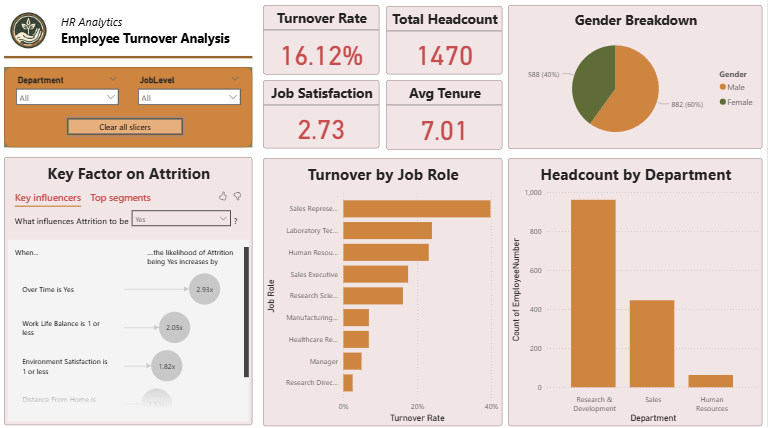

The page's visual inventory and layout, read from the dashboard file:
{"tool":"powerbi","page":{"name":"Page 1","canvas":[1280,720],"ordinal":0},"visuals":[{"type":"card","title":"Total Headcount","fields":{"Values":["Count(TurnOverHR.EmployeeNumber)"]},"box":[644.3,11.4,194.3,114.3],"z":0},{"type":"card","title":"Turnover Rate","fields":{"Values":["TurnOverHR.TurnoverRate"]},"box":[440,10,194.3,115.7],"z":1000},{"type":"card","title":"Job Satisfaction","fields":{"Values":["Avg(TurnOverHR.JobSatisfaction)"]},"box":[440,134.3,194.3,114.3],"z":2000},{"type":"card","title":"Avg Tenure","fields":{"Values":["Avg(TurnOverHR.YearsAtCompany)"]},"box":[644.3,134.3,194.3,115.7],"z":3000},{"type":"pieChart","title":"Gender Breakdown","fields":{"Category":["TurnOverHR.Gender"],"Y":["CountNonNull(TurnOverHR.EmployeeNumber)"]},"box":[848.6,10,424.3,240],"z":4000},{"type":"columnChart","title":"Headcount by Department","fields":{"Category":["TurnOverHR.Department"],"Y":["CountNonNull(TurnOverHR.EmployeeNumber)"]},"box":[848.6,264.3,424.3,447.1],"z":5000},{"type":"textbox","box":[98.6,20.4,324.3,75.7],"z":6000,"group":"g1"},{"type":"image","box":[0,9,98.9,87.8],"z":7000,"group":"g1"},{"type":"keyDriversVisual","title":"Key Factor on Attrition","fields":{"Target":["TurnOverHR.Attrition"],"ExplainBy":["Sum(TurnOverHR.EnvironmentSatisfaction)","TurnOverHR.OverTime","Sum(TurnOverHR.WorkLifeBalance)","Sum(TurnOverHR.DistanceFromHome)"]},"box":[8.6,262.9,414.3,447.1],"z":8000},{"type":"barChart","title":"Turnover by Job Role","fields":{"Category":["TurnOverHR.JobRole"],"Y":["TurnOverHR.TurnoverRate"]},"box":[440,264.3,398.6,447.1],"z":9000},{"type":"shape","box":[8.6,113.9,414.2,134.2],"z":10000,"group":"g2"},{"type":"slicer","fields":{"Values":["TurnOverHR.Department"]},"box":[19.4,123.1,190.8,65],"z":11000,"group":"g2"},{"type":"slicer","fields":{"Values":["TurnOverHR.JobLevel"]},"box":[221.9,123.1,190.8,65],"z":12000,"group":"g2"},{"type":"actionButton","box":[110.3,195.6,200,35],"z":13000,"group":"g2"},{"type":"shape","box":[8.6,83.3,414.3,27.1],"z":14000,"group":"g1"},{"type":"group","id":"g1","title":"Group 1","box":[0,9,422.9,101.4],"z":14001},{"type":"group","id":"g2","title":"Group 2","box":[8.6,113.9,414.2,134.2],"z":14002}]}

Visuals, with their boxes in screenshot pixels (x1, y1, x2, y2), scaled from the page's 1280x720 canvas onto the 768x428 screenshot:
"Total Headcount" card: <bbox>387, 7, 503, 75</bbox>
"Turnover Rate" card: <bbox>264, 6, 381, 75</bbox>
"Job Satisfaction" card: <bbox>264, 80, 381, 148</bbox>
"Avg Tenure" card: <bbox>387, 80, 503, 149</bbox>
"Gender Breakdown" pieChart: <bbox>509, 6, 764, 149</bbox>
"Headcount by Department" columnChart: <bbox>509, 157, 764, 423</bbox>
textbox: <bbox>59, 12, 254, 57</bbox>
image: <bbox>0, 5, 59, 58</bbox>
"Key Factor on Attrition" keyDriversVisual: <bbox>5, 156, 254, 422</bbox>
"Turnover by Job Role" barChart: <bbox>264, 157, 503, 423</bbox>
shape: <bbox>5, 68, 254, 147</bbox>
slicer - TurnOverHR.Department: <bbox>12, 73, 126, 112</bbox>
slicer - TurnOverHR.JobLevel: <bbox>133, 73, 248, 112</bbox>
actionButton: <bbox>66, 116, 186, 137</bbox>
shape: <bbox>5, 50, 254, 66</bbox>
"Group 1" group: <bbox>0, 5, 254, 66</bbox>
"Group 2" group: <bbox>5, 68, 254, 147</bbox>
